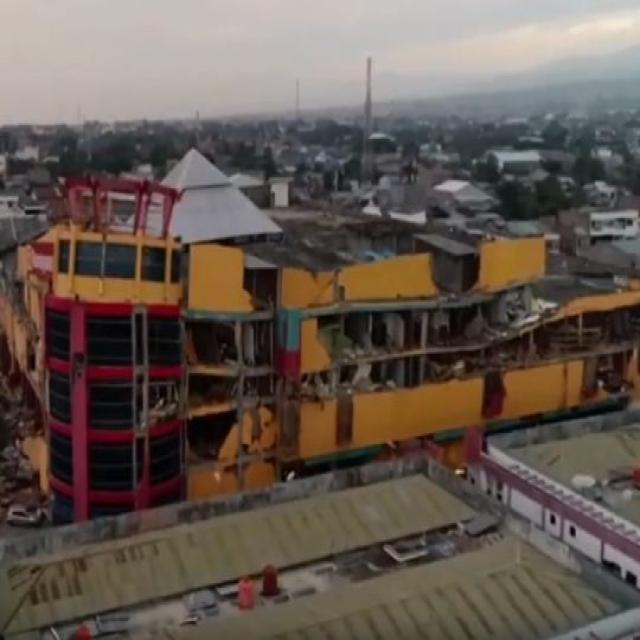collapsed_building: (38, 213, 639, 460)
